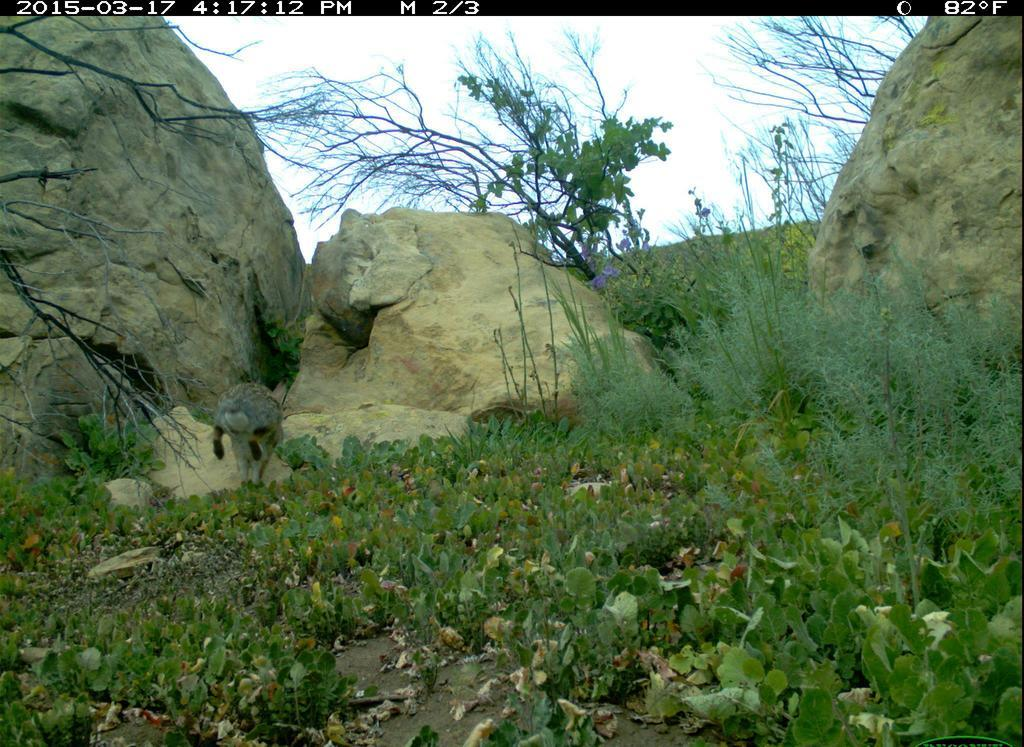rabbit: (200, 376, 296, 495)
